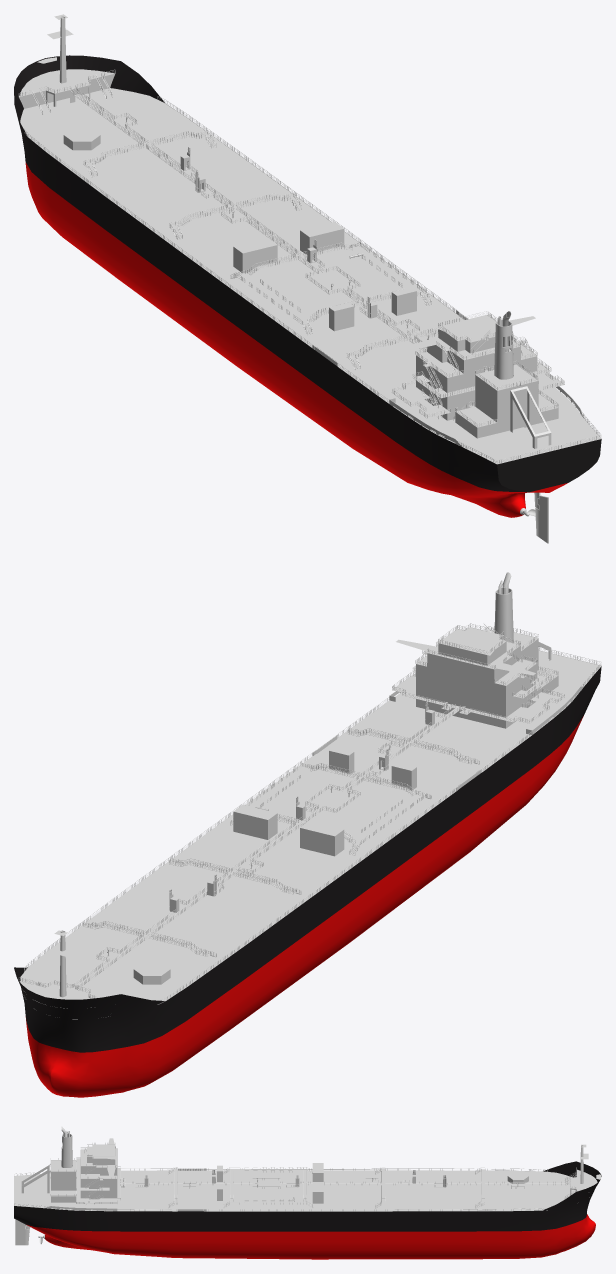
Rendered from tank.fbx.
3 views of the same model, one above another, from view 1: azimuth 30°, elevation 25°; view 2: azimuth 150°, elevation 25°; view 3: azimuth 270°, elevation 25° (orthographic). The views are drawn at different scales.
Visible parts, largest first — view 1: OilTanker-Body_Exterior001, OilTanker-Body_Exterior, RailClone002, OilTanker-Body_Exterior003, Box008, Box012, Box010, Box011, Cylinder003; view 2: OilTanker-Body_Exterior001, OilTanker-Body_Exterior, RailClone002, OilTanker-Body_Exterior003, Box008, Box012, Cylinder003; view 3: OilTanker-Body_Exterior, OilTanker-Body_Exterior001, OilTanker-Body_Exterior003, RailClone002, Box008, Shape002, Box012, Box013, Box011, Cylinder003.
Part boxes in pixels (x1=…): OilTanker-Body_Exterior001: x1=20, y1=88, x2=600, y2=463; OilTanker-Body_Exterior: x1=14, y1=55, x2=601, y2=517; RailClone002: x1=18, y1=69, x2=601, y2=464; OilTanker-Body_Exterior003: x1=19, y1=57, x2=563, y2=426; Box008: x1=416, y1=314, x2=558, y2=438; Box012: x1=494, y1=319, x2=513, y2=379; Box010: x1=19, y1=73, x2=114, y2=108; Box011: x1=510, y1=386, x2=551, y2=448; Cylinder003: x1=63, y1=128, x2=100, y2=150; OilTanker-Body_Exterior001: x1=20, y1=650, x2=600, y2=1019; OilTanker-Body_Exterior: x1=14, y1=666, x2=601, y2=1097; RailClone002: x1=18, y1=623, x2=601, y2=1004; OilTanker-Body_Exterior003: x1=20, y1=630, x2=563, y2=1008; Box008: x1=416, y1=627, x2=558, y2=728; Box012: x1=494, y1=587, x2=513, y2=642; Cylinder003: x1=133, y1=962, x2=170, y2=984; OilTanker-Body_Exterior: x1=14, y1=1161, x2=601, y2=1259; OilTanker-Body_Exterior001: x1=14, y1=1170, x2=589, y2=1211; OilTanker-Body_Exterior003: x1=76, y1=1138, x2=601, y2=1204; RailClone002: x1=14, y1=1143, x2=576, y2=1211; Box008: x1=51, y1=1144, x2=117, y2=1202; Shape002: x1=45, y1=1168, x2=206, y2=1211; Box012: x1=61, y1=1133, x2=72, y2=1167; Box013: x1=15, y1=1219, x2=30, y2=1245; Box011: x1=21, y1=1165, x2=49, y2=1193; Cylinder003: x1=507, y1=1172, x2=528, y2=1183.
Size of the model in its own units: 4532 by 6287 by 27420.
